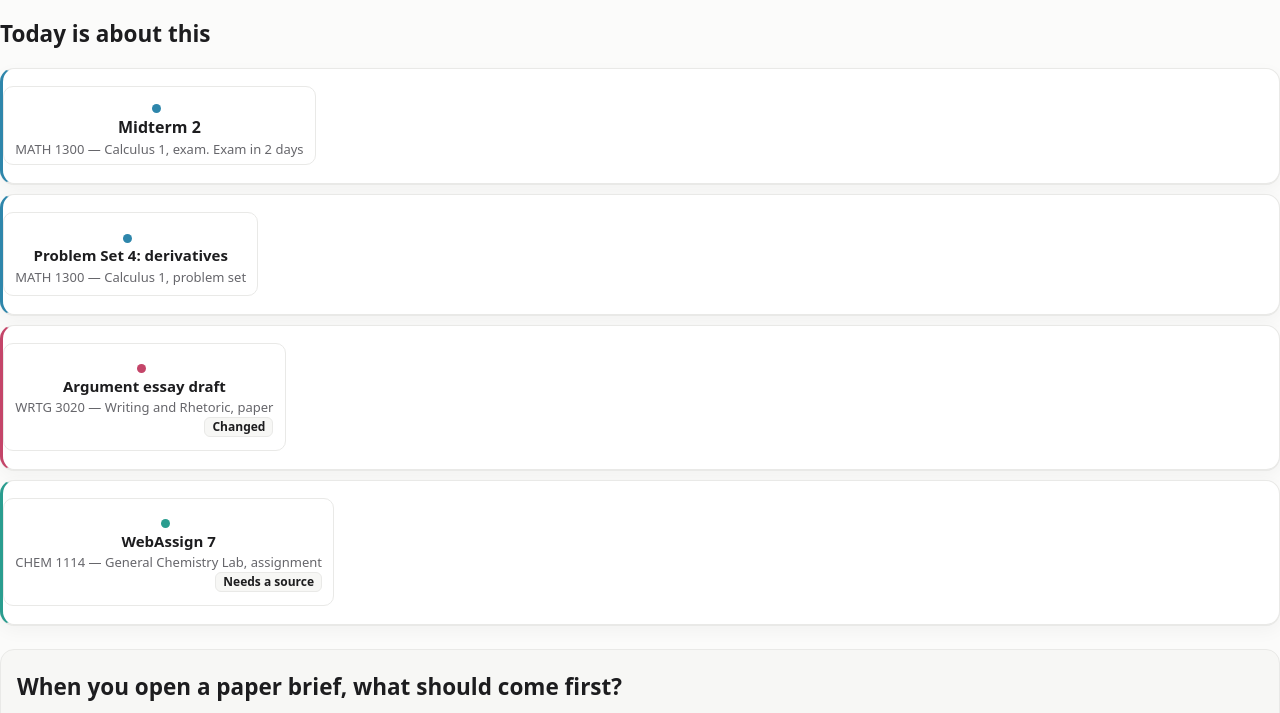
Test: a brief › retries a brief that failed to load
The image size is (1280, 713).
Click the button "Problem Set 4": (131, 254) [3,212,258,296]
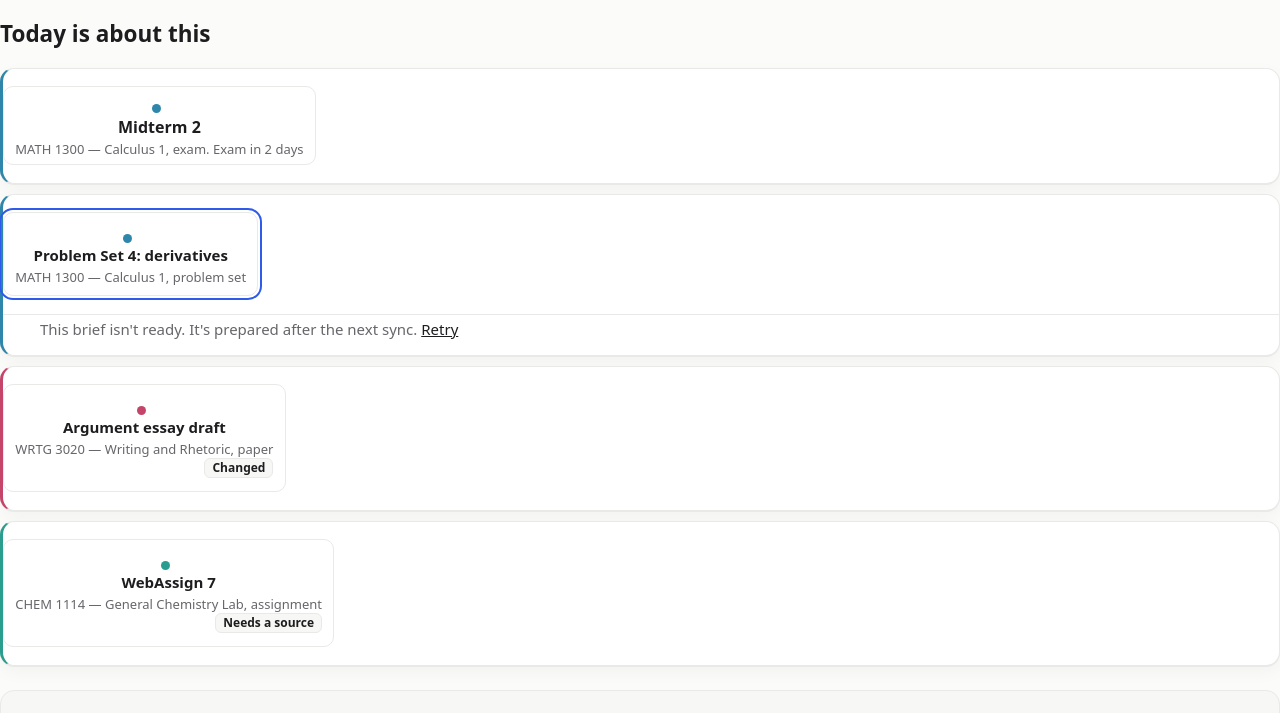
Expected: the text "isn't ready" is shown, [40,319,417,339]
Click the button "Problem Set 4": (131, 254) [3,212,258,296]
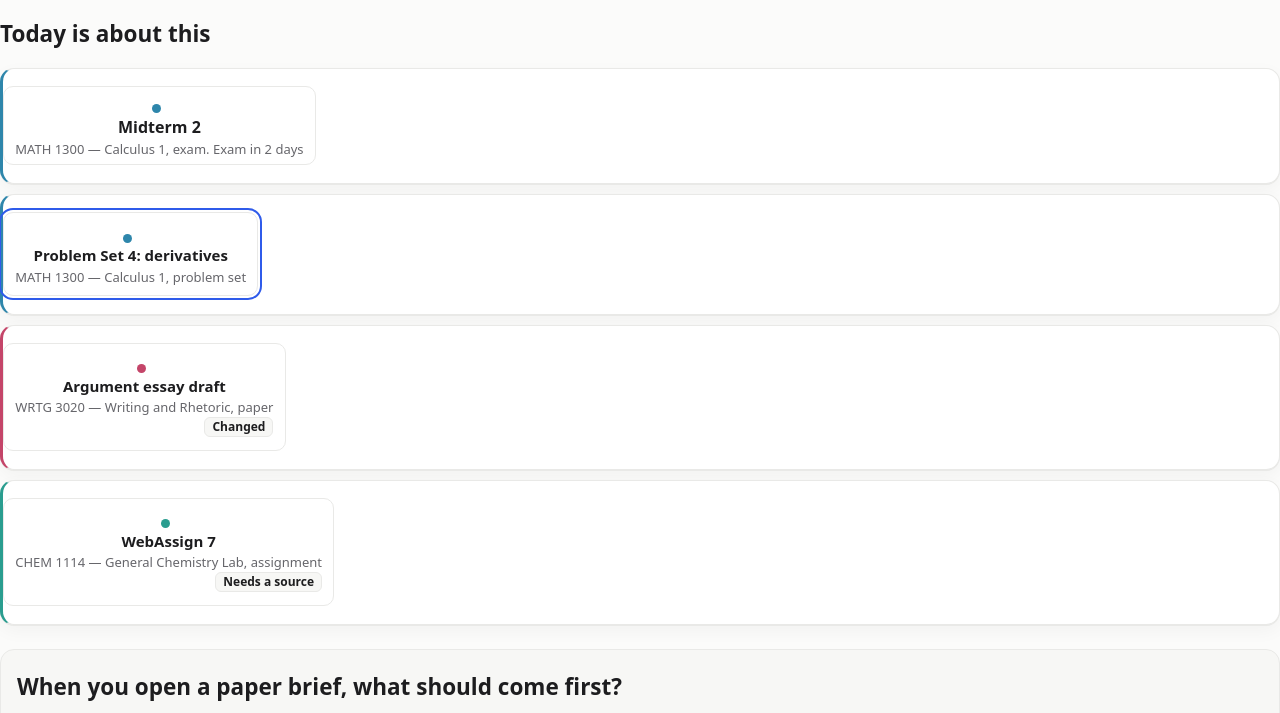
Click the button "Problem Set 4": (131, 254) [3,212,258,296]
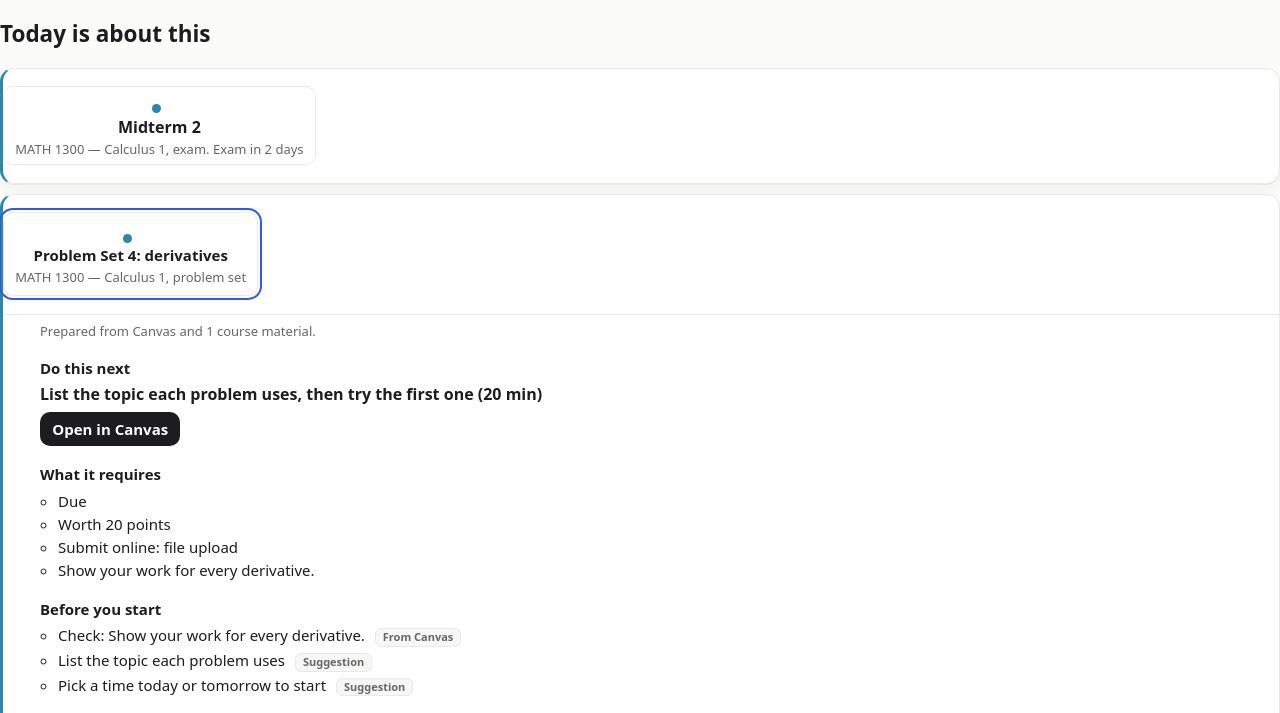
Expected: the heading "Do this next" is shown, [40,358,130,378]
